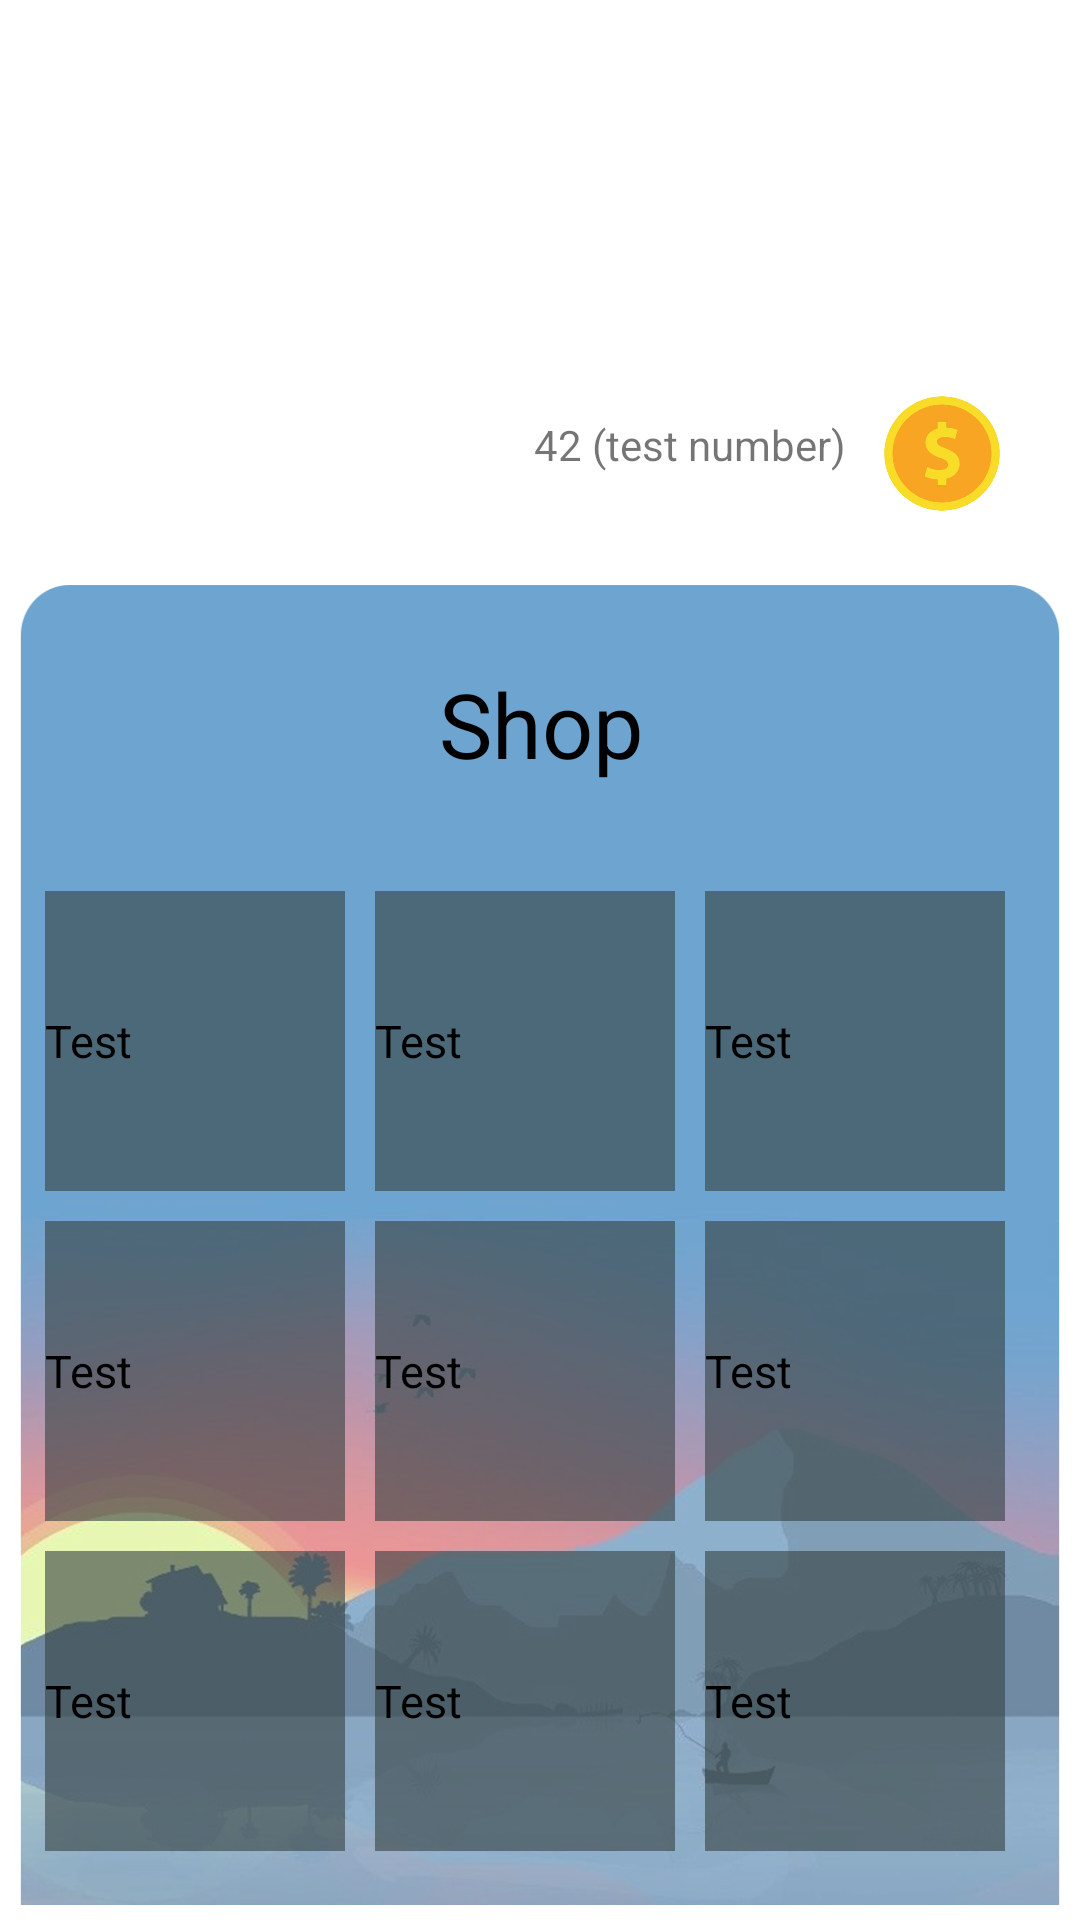

Point at icon controls on the screen. Image size 1080*1920, points as point (x, y).
coin: point (942, 453)
